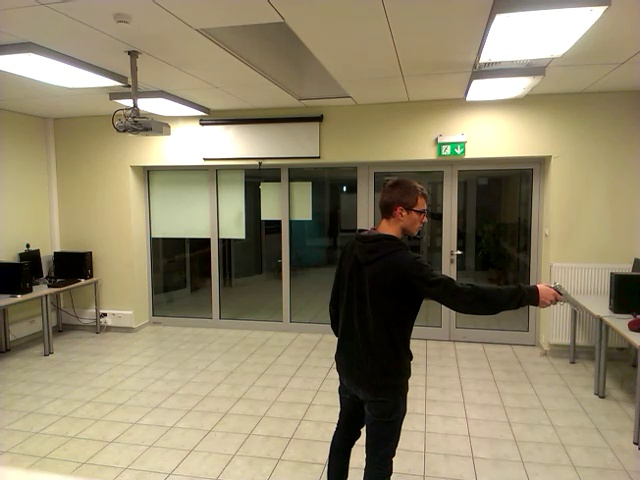gun: (539, 261, 578, 326)
